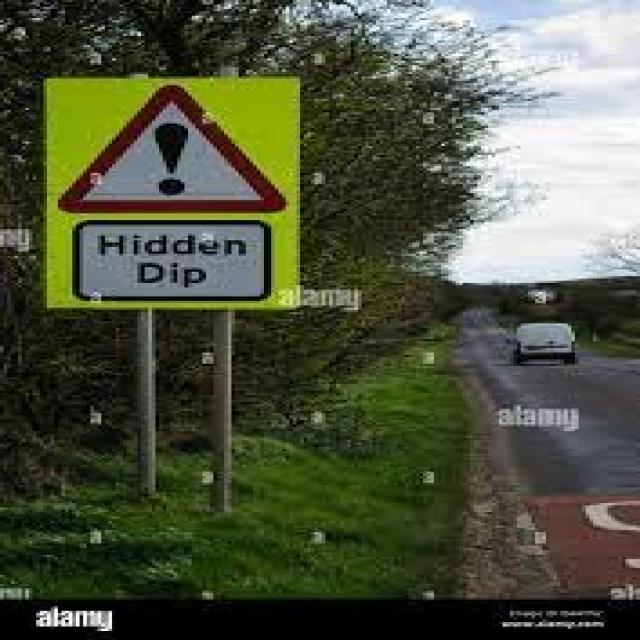warning: (56, 81, 297, 216)
